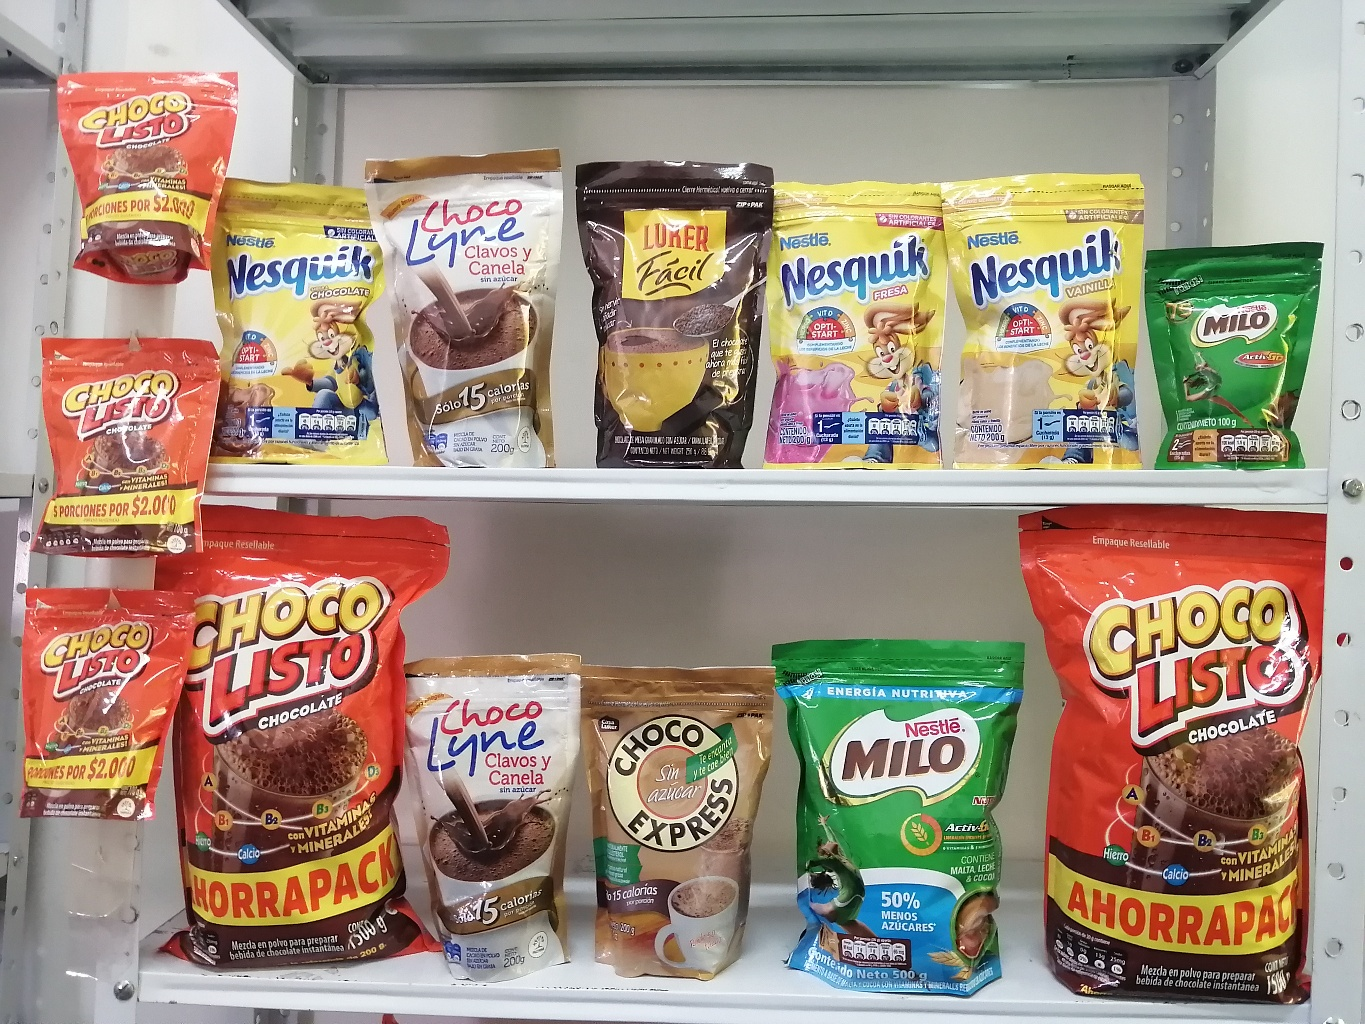COL0170103DYP1,500: (999, 490, 1340, 1016)
COL0170203DYP10000: (1134, 219, 1328, 472)
COL0170205DYP50000: (756, 621, 1021, 1001)
COL0170303DYP20000: (179, 170, 407, 473)
COL0170305DYP20000: (740, 170, 962, 477)
COL0170306DYP20000: (935, 165, 1157, 472)
